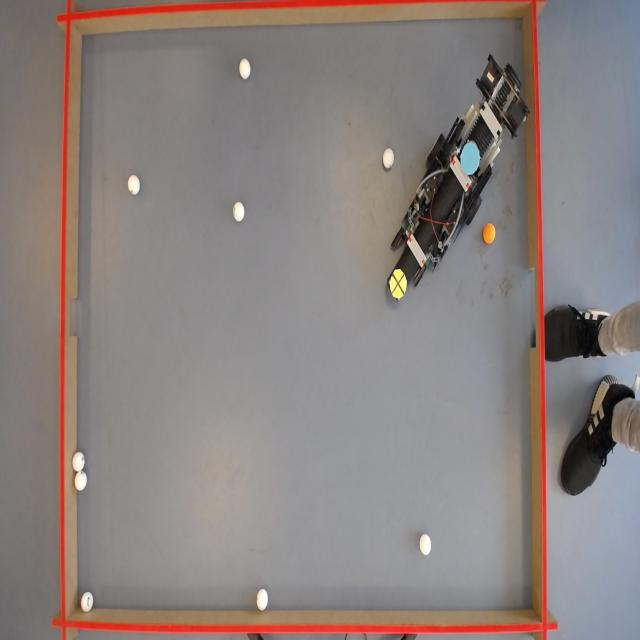orange: (482, 222, 497, 245)
robot: (378, 60, 528, 312)
robot-front: (389, 270, 406, 302)
robot-rear: (460, 142, 480, 177)
white: (255, 589, 269, 612), (72, 451, 86, 474), (239, 58, 253, 80), (382, 149, 396, 170), (128, 174, 142, 195), (80, 592, 94, 613), (419, 533, 432, 555), (234, 202, 247, 223), (74, 473, 87, 493)
